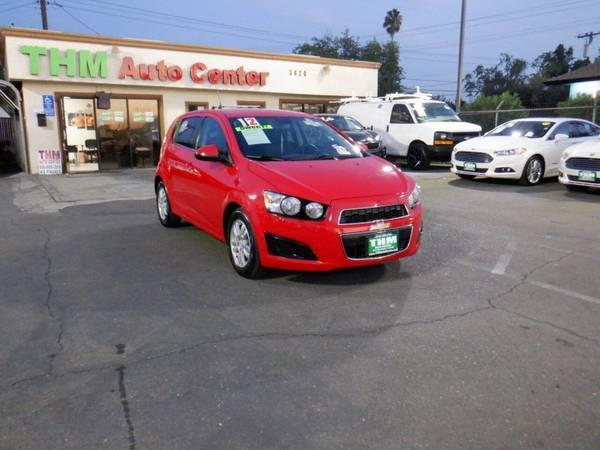Front_Bumper: (251, 206, 357, 270), (410, 205, 423, 255)
Front_Fender: (226, 159, 279, 218)
Front_Right_Door: (192, 155, 233, 241)
Front_Right_Window: (193, 116, 233, 167)
Front_Windshield: (226, 116, 364, 162)
Grille: (339, 206, 416, 267)
Hood: (248, 158, 414, 208)
Left_Headlight: (403, 183, 417, 213)
Rear_Right_Door: (156, 143, 196, 224)
Rear_Right_Window: (169, 116, 203, 151)
Right_Headlight: (262, 190, 329, 223)
Roof: (165, 107, 314, 164)
Wheel: (227, 215, 259, 279), (156, 183, 183, 225)
